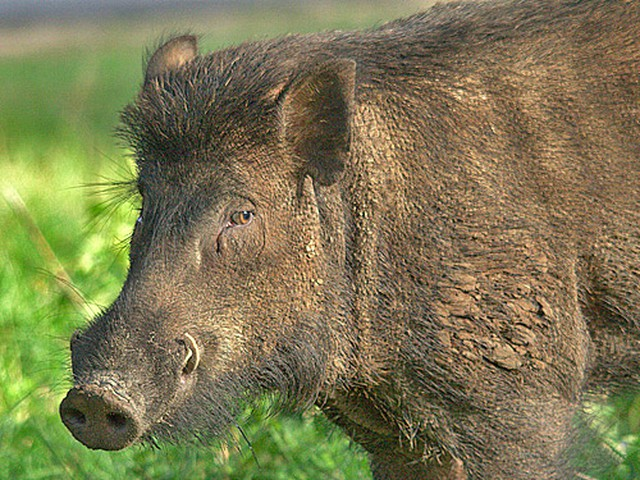Pig: (65, 2, 637, 469)
